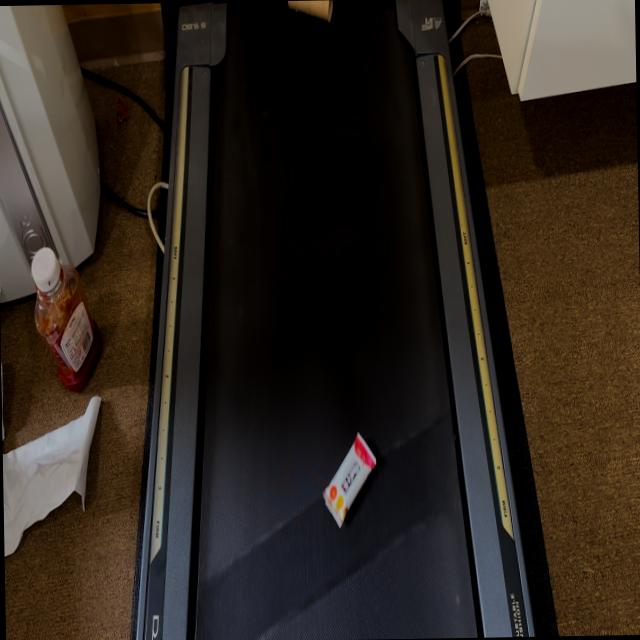Recycle: (320, 426, 379, 532), (282, 0, 334, 23)
